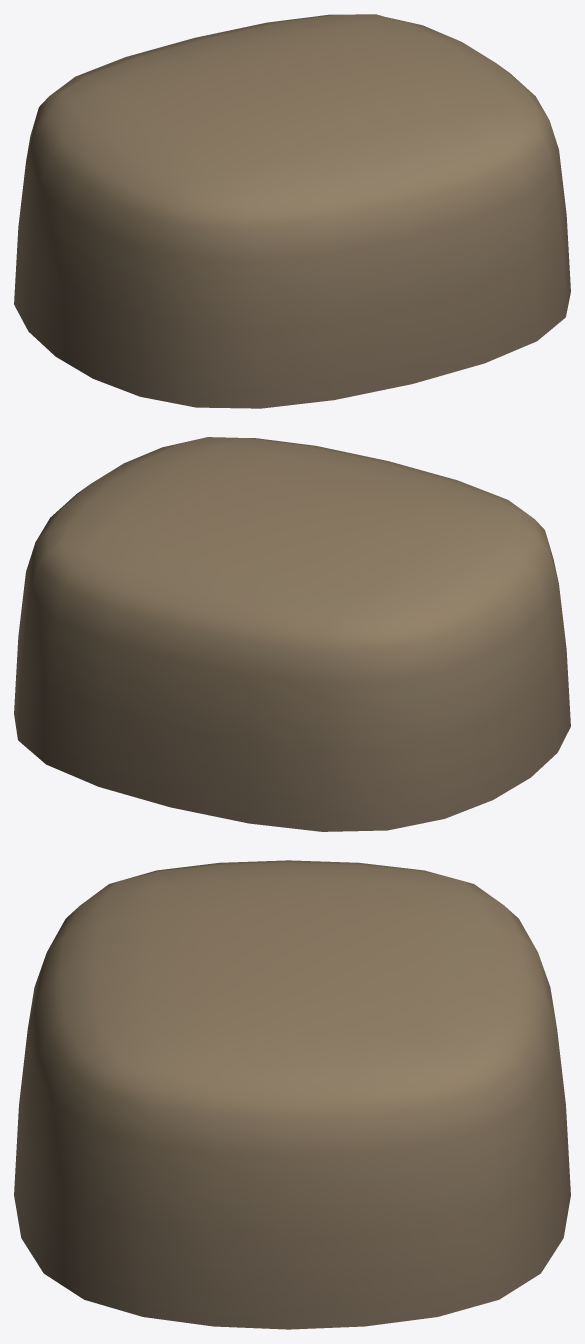
The model's file is mountain_small.fbx.
The picture shows the model from 3 angles, top to bottom: view 1: azimuth 30°, elevation 25°; view 2: azimuth 150°, elevation 25°; view 3: azimuth 270°, elevation 25°; orthographic projection. The views are drawn at different scales.
Visible parts, largest first — view 1: Cube.009; view 2: Cube.009; view 3: Cube.009.
Part boxes in pixels (<box>): Cube.009: <box>14,14,570,408</box>; Cube.009: <box>14,437,570,831</box>; Cube.009: <box>14,860,570,1329</box>.
Bounding box in the file's own units: 158 × 66.79 × 137.
